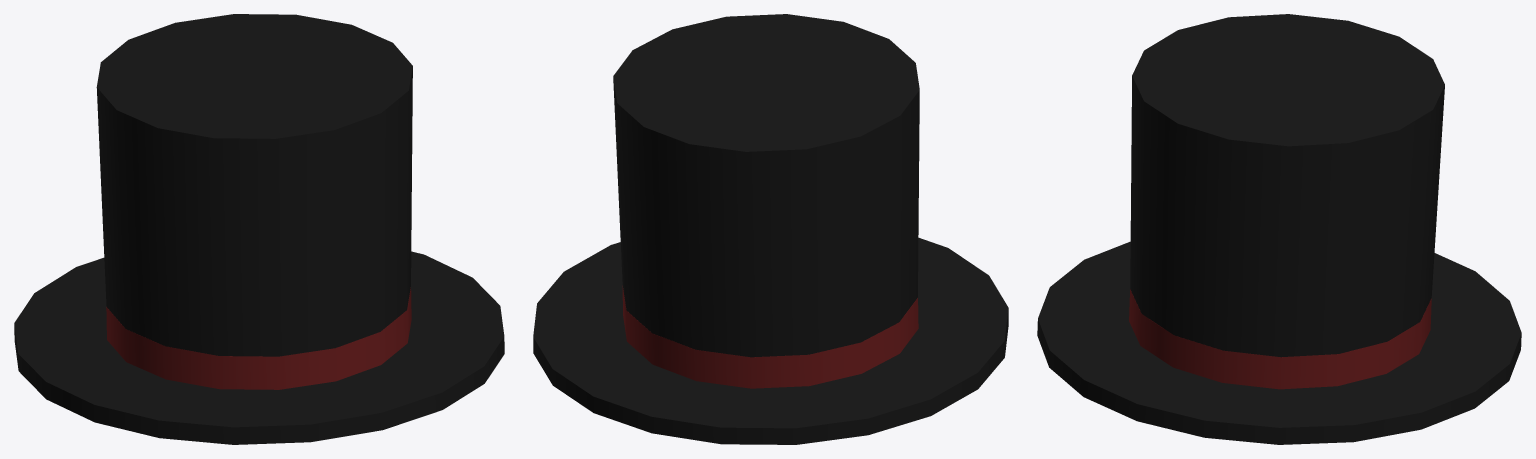
The model's file is top_hat_m.glb.
3 renders of one model, left to right at view 1: azimuth 30°, elevation 25°; view 2: azimuth 150°, elevation 25°; view 3: azimuth 270°, elevation 25°, orthographic. The views are drawn at different scales.
Visible parts, largest first — view 1: top_hat_m; view 2: top_hat_m; view 3: top_hat_m.
Part boxes in pixels (x1,y1,x2,y2): top_hat_m: (14, 14, 504, 444); top_hat_m: (533, 14, 1008, 444); top_hat_m: (1037, 14, 1521, 444).
Size of the model in its own units: 0.3082 by 0.1927 by 0.3084.
